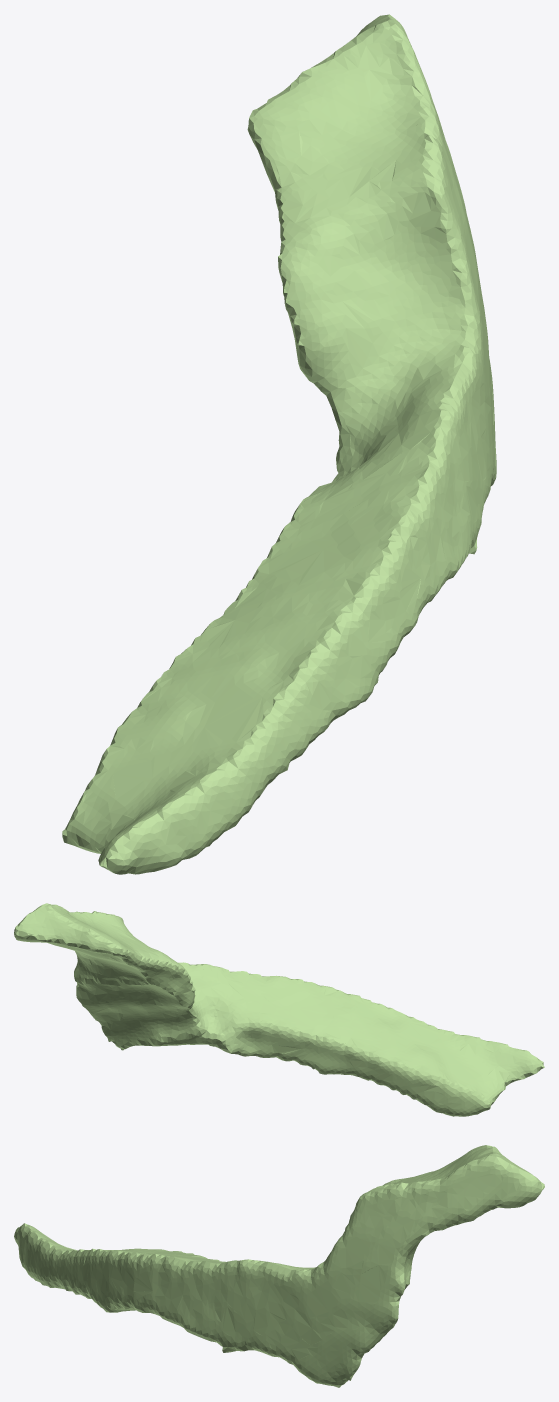
Rendered from Model_28_RH__Areas_1_and_2_of_cortex_(A1_2).obj.
The picture shows the model from 3 angles, top to bottom: view 1: azimuth 30°, elevation 25°; view 2: azimuth 150°, elevation 25°; view 3: azimuth 270°, elevation 25°; orthographic projection. The views are drawn at different scales.
Bounding box in the file's own units: 8.38 × 5.7 × 8.53.
